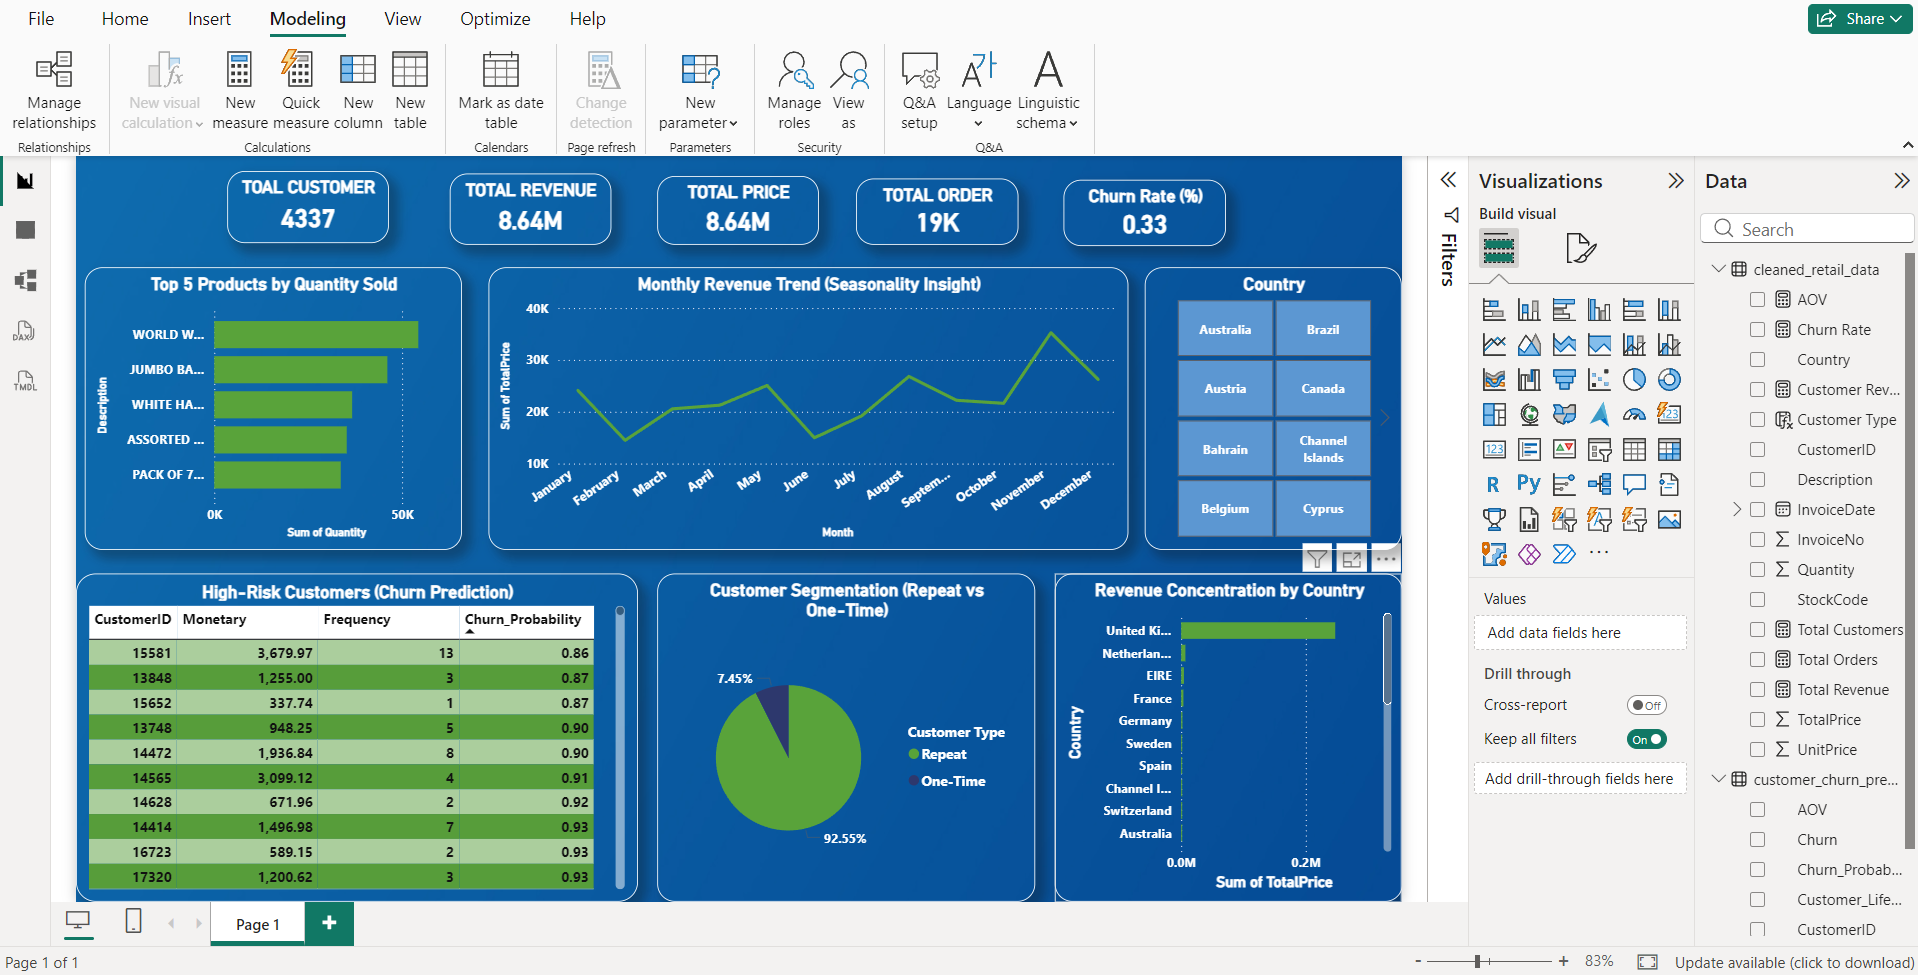

What the dashboard file says about the page in this screenshot:
{"tool":"powerbi","page":{"name":"Page 1","canvas":[1280,720],"ordinal":0},"visuals":[{"type":"card","title":"TOAL CUSTOMER ","fields":{"Values":["cleaned_retail_data.Total Customers"]},"box":[146,14.5,155.6,70],"z":0},{"type":"card","title":"TOTAL ORDER","fields":{"Values":["cleaned_retail_data.Total Orders"]},"box":[752.8,21.7,156.8,63.9],"z":1000},{"type":"card","title":"TOTAL REVENUE","fields":{"Values":["cleaned_retail_data.Total Revenue"]},"box":[360.7,16.9,155.6,68.8],"z":2000},{"type":"card","title":"TOTAL PRICE","fields":{"Values":["Sum(cleaned_retail_data.TotalPrice)"]},"box":[561,19.3,155.6,66.4],"z":3000},{"type":"clusteredBarChart","title":"Top 5 Products by Quantity Sold","fields":{"Category":["cleaned_retail_data.Description"],"Y":["Sum(cleaned_retail_data.Quantity)"]},"box":[8.4,107.4,364.3,272.7],"z":4000},{"type":"lineChart","title":"Monthly Revenue Trend (Seasonality Insight)","fields":{"Y":["Sum(cleaned_retail_data.TotalPrice)"],"Category":["cleaned_retail_data.InvoiceDate.Variation.Date Hierarchy.Month"]},"box":[397.9,107,617.5,273.1],"z":5000},{"type":"card","title":"Churn Rate (%)","fields":{"Values":["cleaned_retail_data.Churn Rate"]},"box":[953.1,22.9,156.8,63.9],"z":6000},{"type":"clusteredBarChart","title":"Revenue Concentration by Country","fields":{"Y":["Sum(cleaned_retail_data.TotalPrice)"],"Category":["cleaned_retail_data.Country"]},"box":[944.1,403.4,336.2,317],"z":7000},{"type":"pieChart","title":"Customer Segmentation (Repeat vs One-Time)","fields":{"Category":["cleaned_retail_data.Customer Type"],"Y":["CountNonNull(cleaned_retail_data.CustomerID)"]},"box":[561.2,403.4,365,317],"z":8000},{"type":"tableEx","title":"High-Risk Customers (Churn Prediction)","fields":{"Values":["customer_churn_predictions.CustomerID","customer_churn_predictions.Monetary","customer_churn_predictions.Frequency","customer_churn_predictions.Churn_Probability"]},"box":[0,403.4,542,317],"z":8001},{"type":"slicer","title":"Country","fields":{"Values":["cleaned_retail_data.Country"]},"box":[1031.9,107,248.4,273.1],"z":8002}]}

Visuals, with their boxes on the page's 1280x720 design canvas (x1, y1, x2, y2). These are canvas units, not pixel positions in the 1918x975 screenshot, which may show the page scaled, cropped or inside an application window:
"TOAL CUSTOMER " card: 146/14/302/84
"TOTAL ORDER" card: 753/22/910/86
"TOTAL REVENUE" card: 361/17/516/86
"TOTAL PRICE" card: 561/19/717/86
"Top 5 Products by Quantity Sold" clusteredBarChart: 8/107/373/380
"Monthly Revenue Trend (Seasonality Insight)" lineChart: 398/107/1015/380
"Churn Rate (%)" card: 953/23/1110/87
"Revenue Concentration by Country" clusteredBarChart: 944/403/1280/720
"Customer Segmentation (Repeat vs One-Time)" pieChart: 561/403/926/720
"High-Risk Customers (Churn Prediction)" tableEx: 0/403/542/720
"Country" slicer: 1032/107/1280/380
